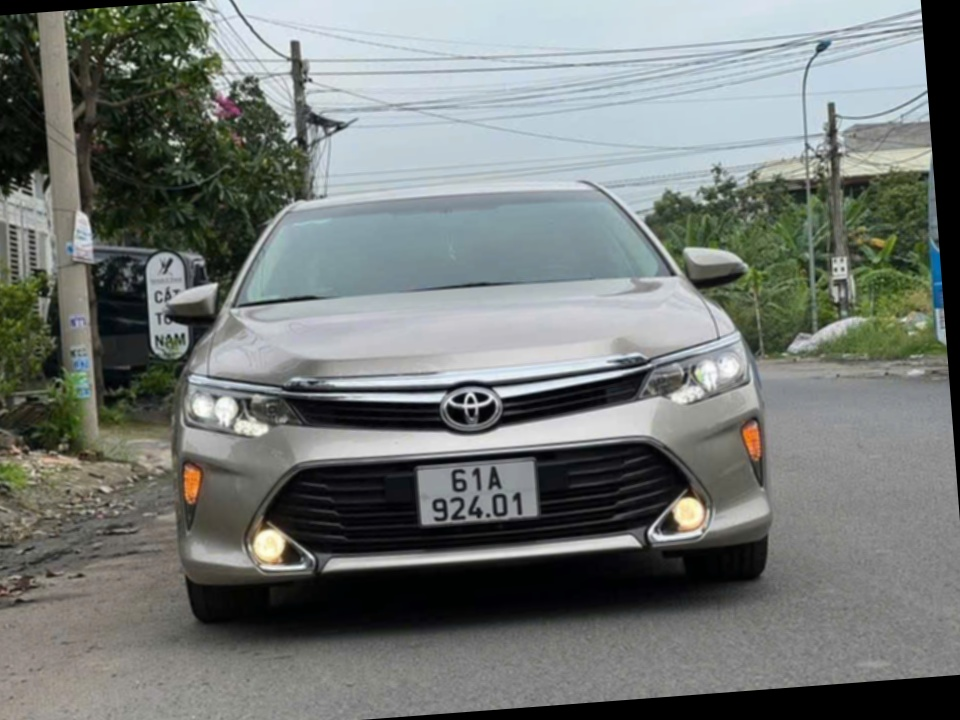Bien-so: (431, 451, 555, 520)
